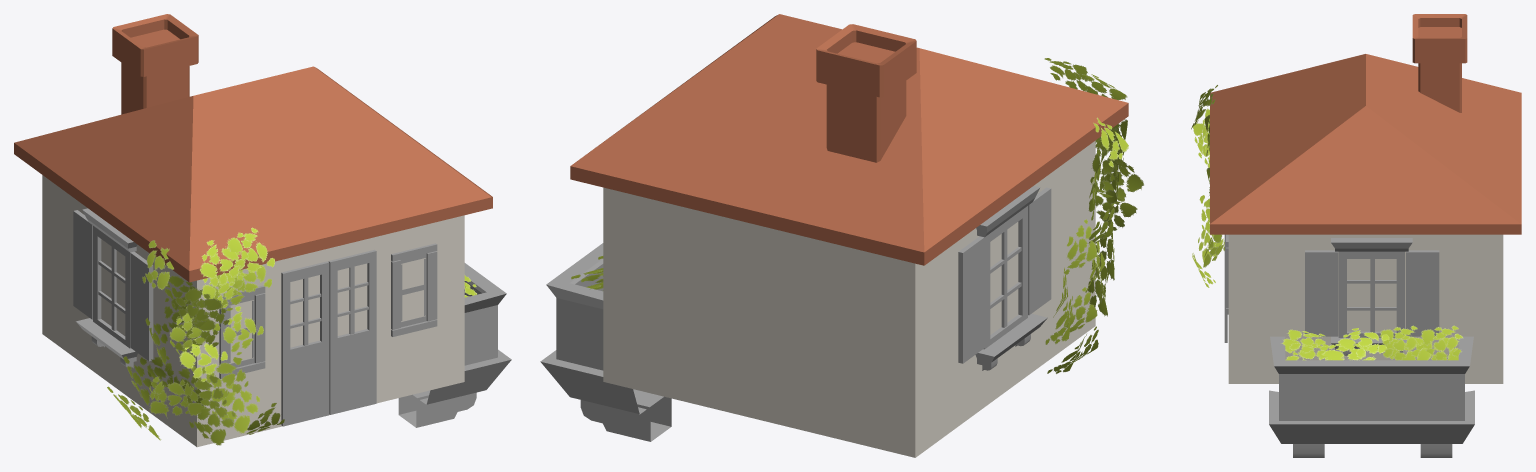
The model's file is SmallHouse2_Low.fbx.
3 renders of one model, left to right at view 1: azimuth 30°, elevation 25°; view 2: azimuth 150°, elevation 25°; view 3: azimuth 270°, elevation 25°, orthographic. The views are drawn at different scales.
Visible parts, largest first — view 1: polySurface129, polySurface67; view 2: polySurface129, polySurface67; view 3: polySurface129, polySurface67.
Part boxes in pixels (x1=…): polySurface129: x1=42, y1=175, x2=511, y2=447; polySurface67: x1=14, y1=14, x2=492, y2=282; polySurface129: x1=540, y1=58, x2=1143, y2=457; polySurface67: x1=570, y1=14, x2=1128, y2=265; polySurface129: x1=1191, y1=85, x2=1503, y2=457; polySurface67: x1=1210, y1=14, x2=1521, y2=234.
Size of the model in its own units: 26.72 by 25.16 by 22.7.
